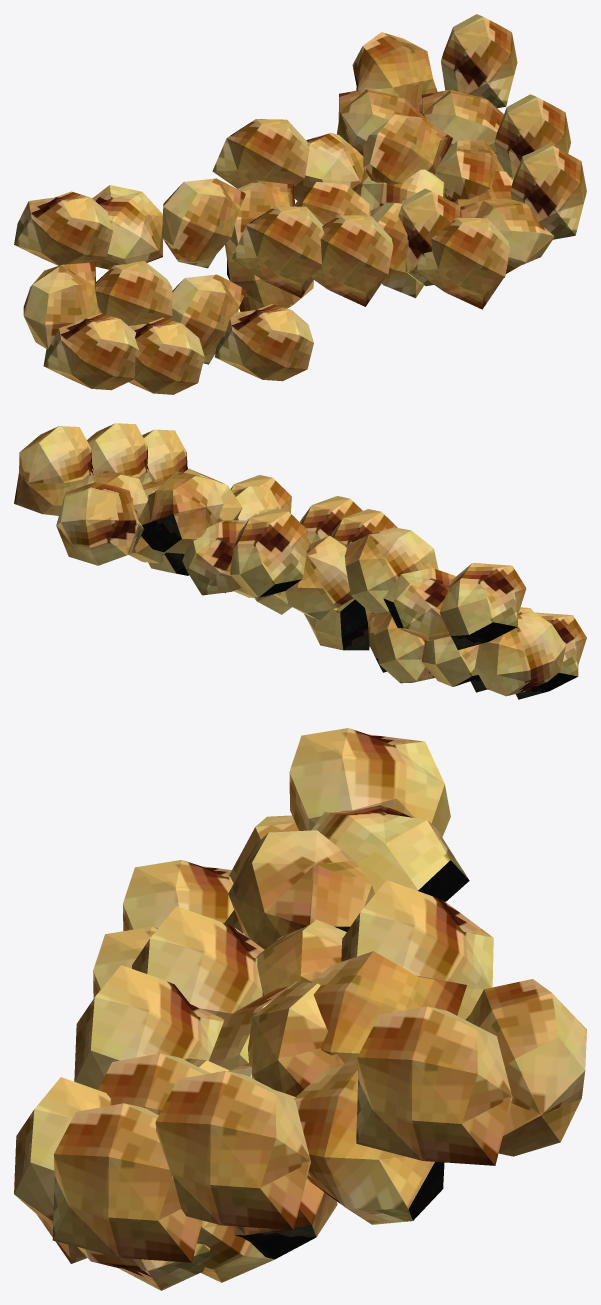
The model's file is Fruta5.fbx.
3 renders of one model, top to bottom at view 1: azimuth 30°, elevation 25°; view 2: azimuth 150°, elevation 25°; view 3: azimuth 270°, elevation 25°, orthographic. The views are drawn at different scales.
Parts seen in each view (by area): view 1: Cube.022; view 2: Cube.022; view 3: Cube.022.
Part boxes in pixels (left/top/right/bottom): Cube.022: left=14, top=14, right=586, bottom=394; Cube.022: left=14, top=423, right=586, bottom=699; Cube.022: left=14, top=728, right=586, bottom=1290.
Bounding box in the file's own units: 67.39 × 29.9 × 35.62.
1 material, 1 textured.
